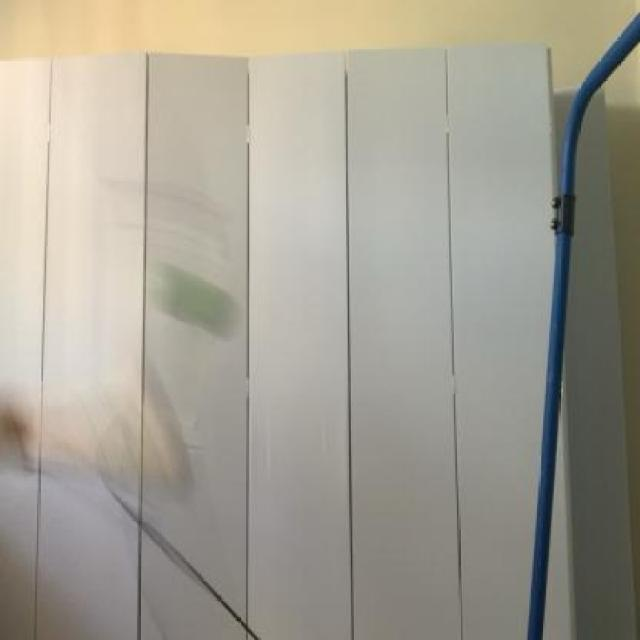baseball: (153, 260, 238, 342)
